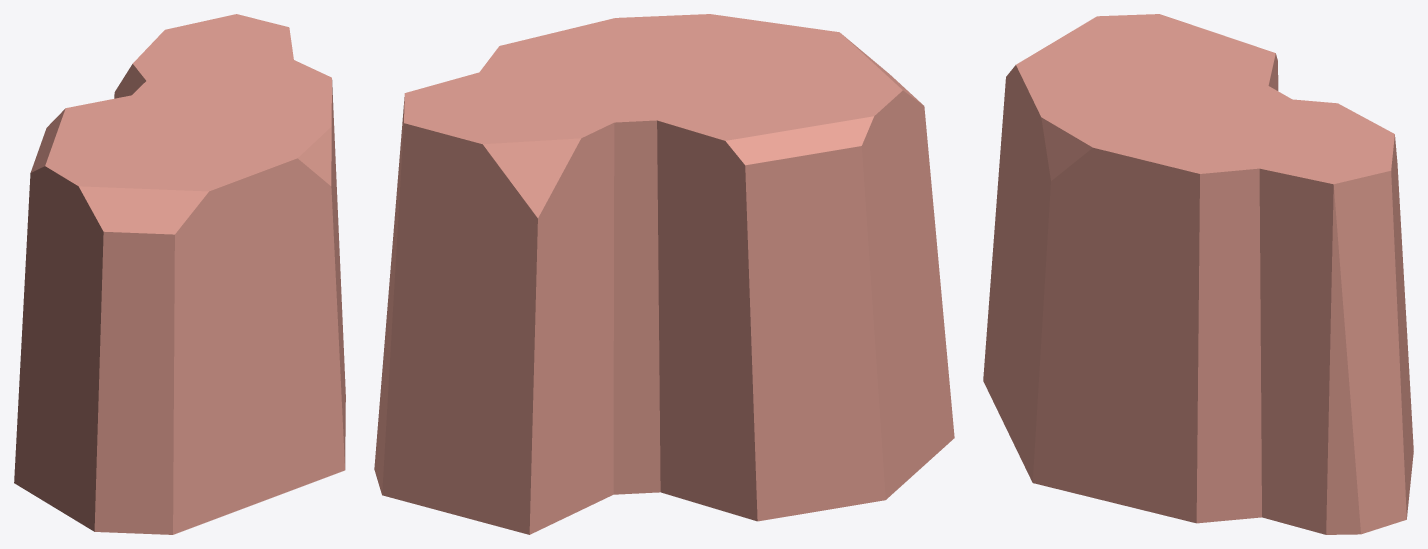
The model's file is Plane_031_Vlad.fbx.
The picture shows the model from 3 angles, left to right: view 1: azimuth 30°, elevation 25°; view 2: azimuth 150°, elevation 25°; view 3: azimuth 270°, elevation 25°; orthographic projection. The views are drawn at different scales.
Parts seen in each view (by area): view 1: Plane.031; view 2: Plane.031; view 3: Plane.031.
Part boxes in pixels (box(x1,y1,x2,y2)): Plane.031: box(14, 14, 345, 534); Plane.031: box(374, 14, 954, 534); Plane.031: box(983, 14, 1413, 534).
Size of the model in its own units: 236 by 200 by 228.
